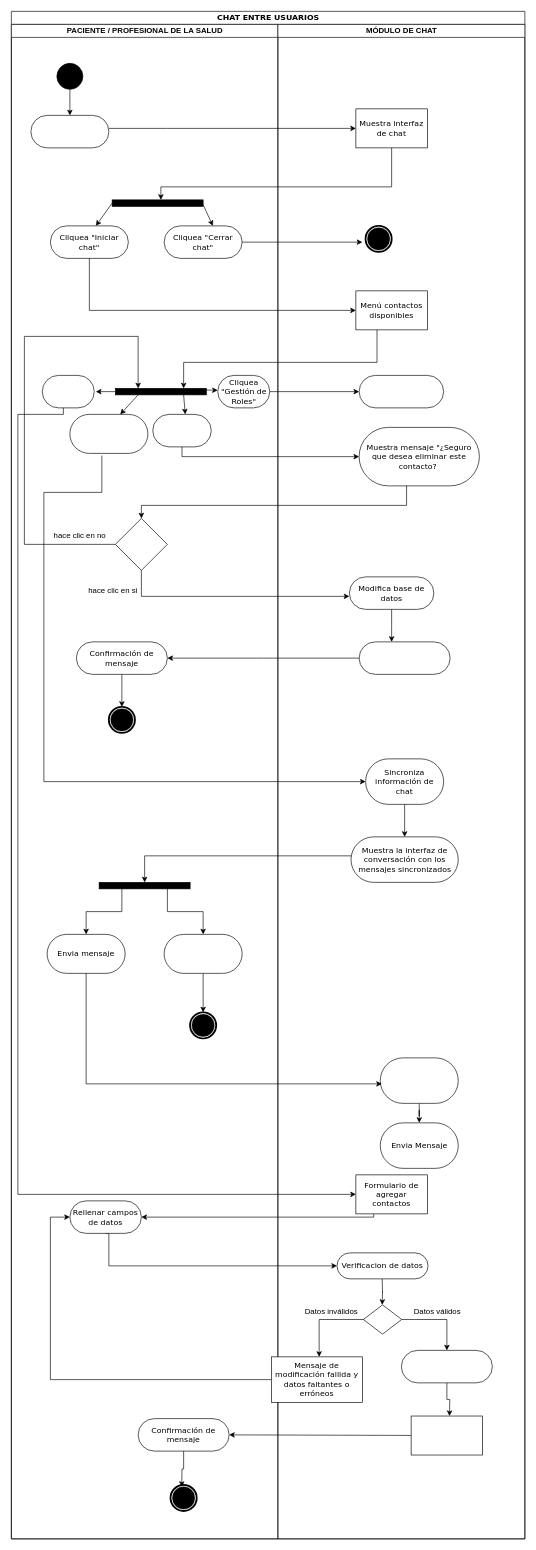
Some shapes in this 536 by 1550 pixel diagram are drawn without their labels. The shapes that lost their labels are listed below. From the top down, each one's centre as x and y in pixels, then its label:
point 69,131: Click en "Chat"
point 68,391: Cliquea "Agregar contacto"
point 401,391: Activa caso de uso "Gestión de roles"
point 108,433: Cliquea "Iniciar chat con contacto existente"
point 181,430: Cliquea "Eliminar contacto"
point 404,657: Muestra mensaje "acción completada satisfactoriamente"
point 202,953: Cliquea "Salir de chat"
point 419,1080: Guarda Mensaje
point 446,1366: Modificación en Base de datos
point 446,1435: Mensaje de modificación exitosa
